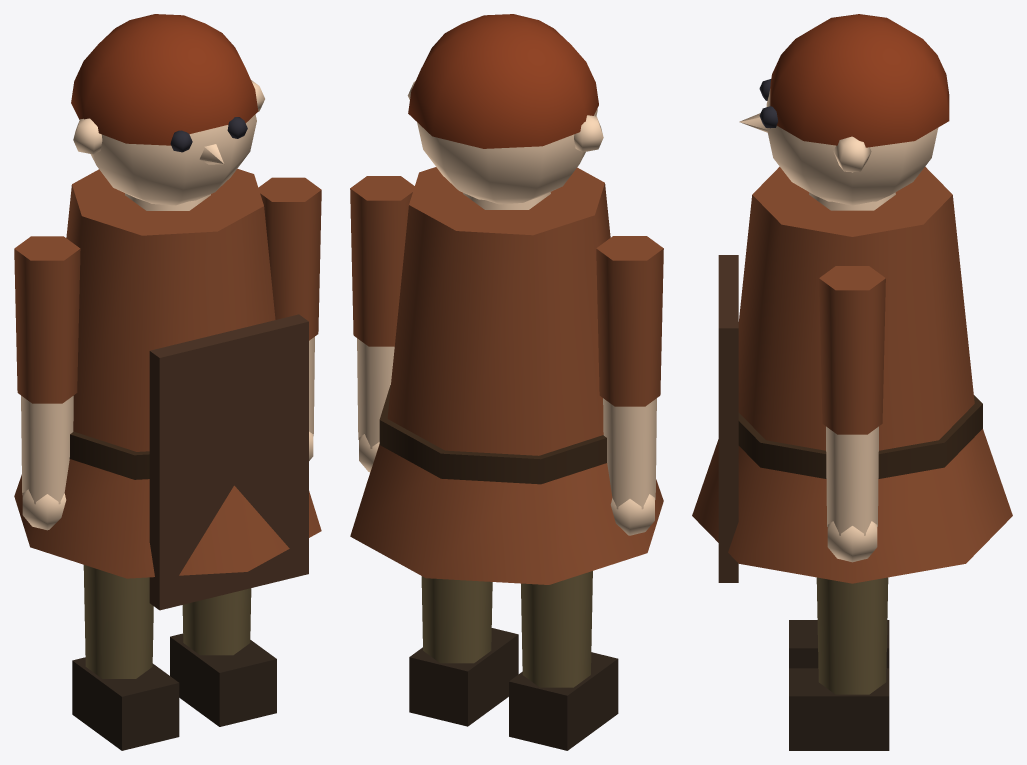
File: w_schmelze.glb
The picture shows the model from 3 angles, left to right: view 1: azimuth 30°, elevation 25°; view 2: azimuth 150°, elevation 25°; view 3: azimuth 270°, elevation 25°; orthographic projection. The views are drawn at different scales.
Visible parts, largest first — view 1: worker, arm_l, leg_l, leg_r, arm_r; view 2: worker, arm_l, leg_l, leg_r, arm_r; view 3: worker, arm_r, leg_r, leg_l.
Part boxes in pixels (<box>): worker: <box>14,14,321,610</box>; arm_l: <box>14,236,80,530</box>; leg_l: <box>72,565,179,750</box>; leg_r: <box>170,588,276,726</box>; arm_r: <box>258,177,321,460</box>; worker: <box>350,14,663,584</box>; arm_l: <box>596,236,663,535</box>; leg_l: <box>509,571,618,750</box>; leg_r: <box>409,576,518,726</box>; arm_r: <box>350,176,414,472</box>; worker: <box>692,14,1012,583</box>; arm_r: <box>819,266,885,562</box>; leg_r: <box>789,577,889,750</box>; leg_l: <box>789,620,889,668</box>.
Bounding box in the file's own units: 0.4053 × 0.9112 × 0.384.
